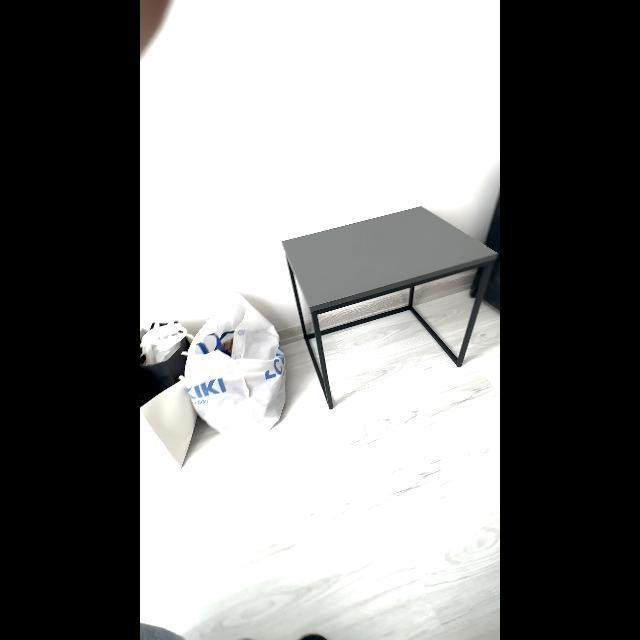coffee table: (281, 200, 493, 408)
